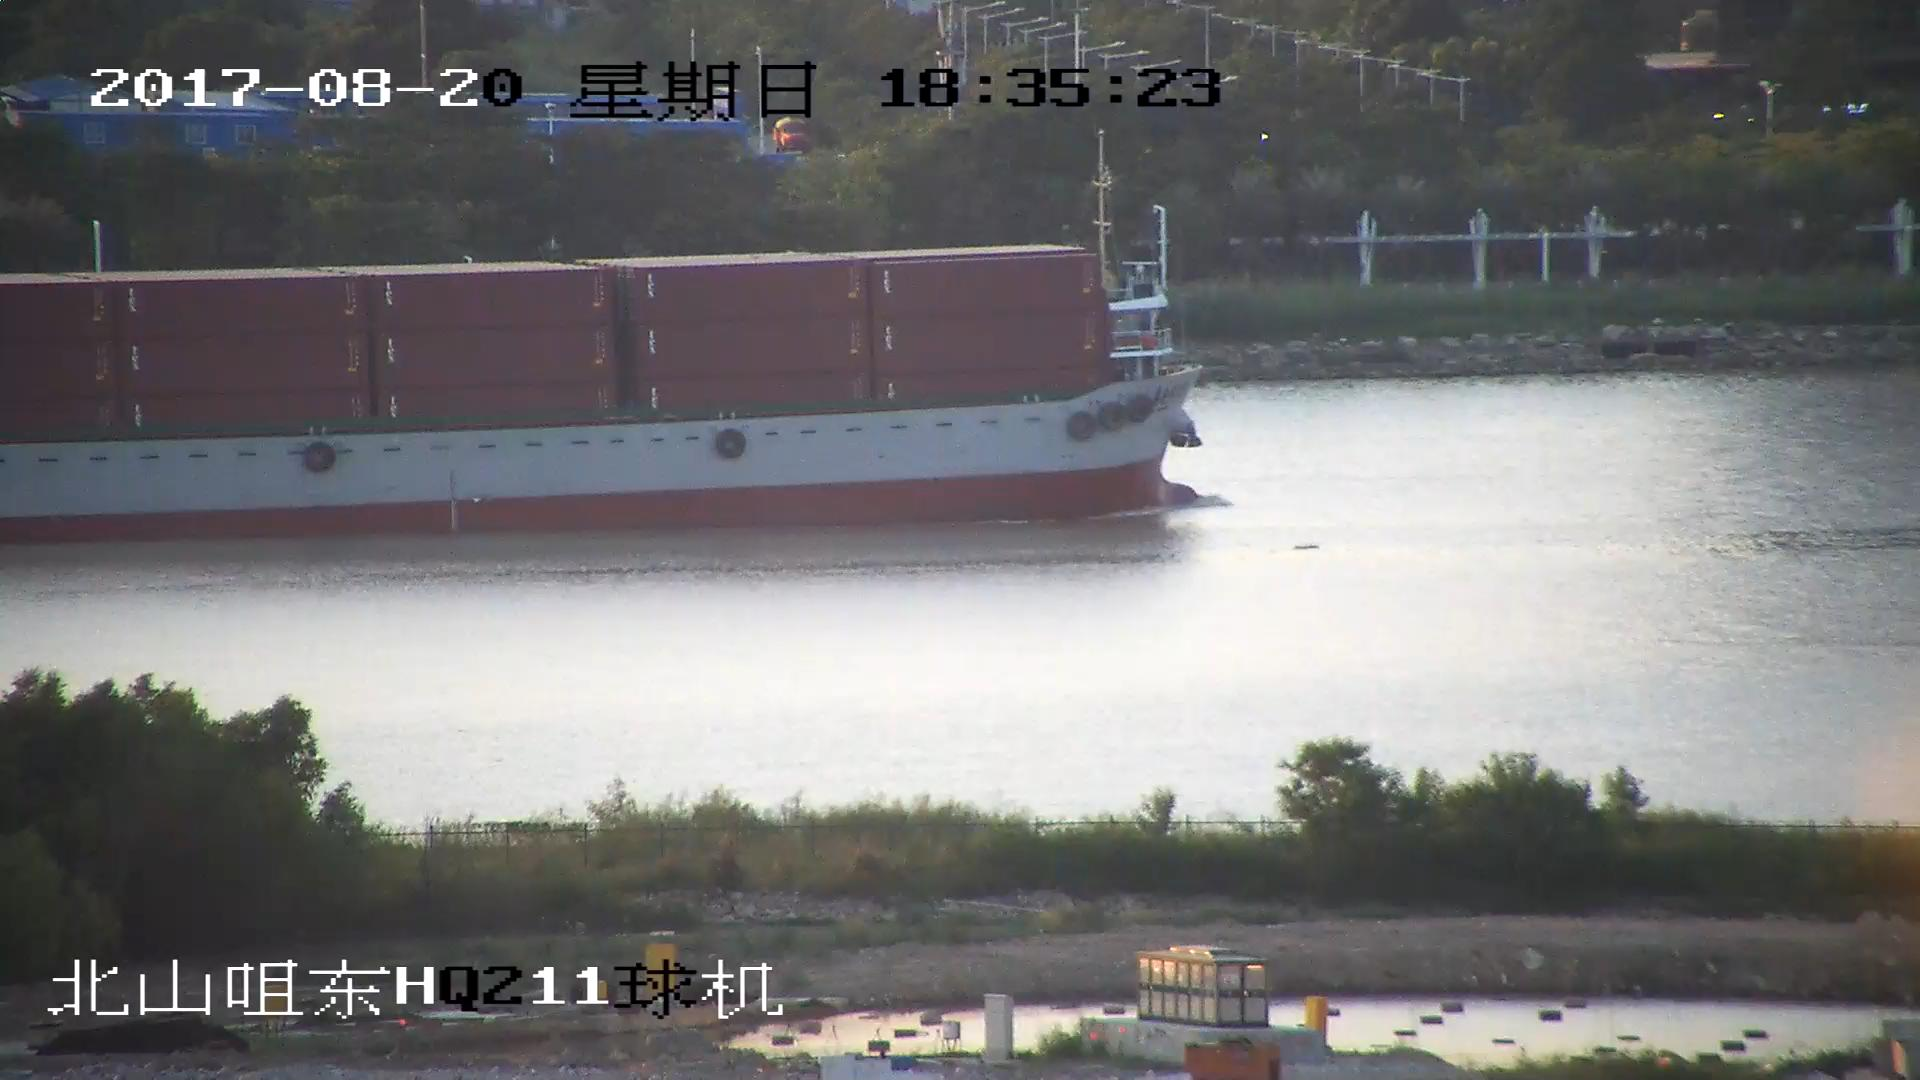container ship: (1, 128, 1205, 542)
